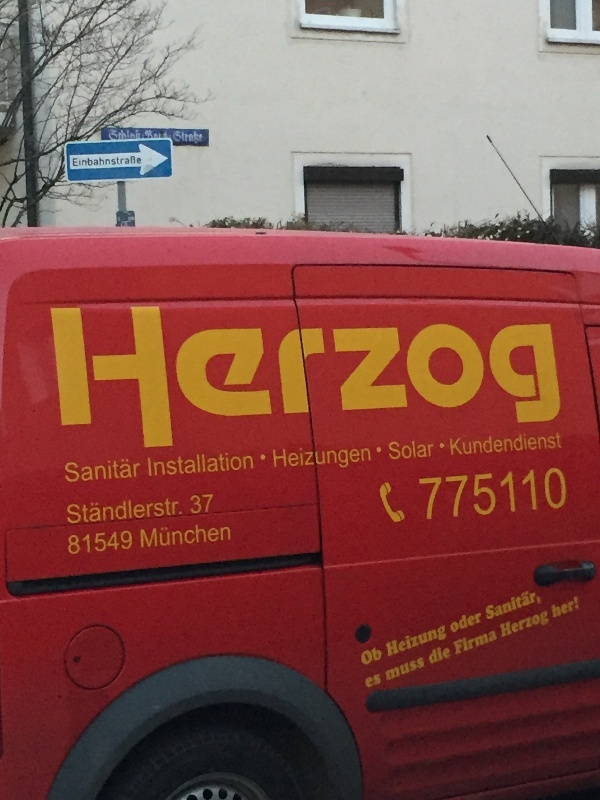text: (65, 298, 80, 452), (81, 298, 96, 452), (97, 298, 112, 452), (113, 298, 128, 452), (129, 298, 144, 452), (145, 298, 160, 452), (161, 298, 176, 452), (177, 298, 192, 452), (193, 298, 208, 452), (209, 298, 224, 452), (225, 298, 240, 452), (241, 298, 256, 452), (257, 298, 272, 452), (273, 298, 288, 452), (289, 298, 304, 452), (305, 298, 320, 452), (321, 298, 336, 452), (337, 298, 352, 452), (353, 298, 368, 452), (369, 298, 384, 452), (385, 298, 400, 452), (401, 298, 416, 452), (417, 298, 432, 452), (433, 298, 448, 452), (449, 298, 464, 452), (465, 298, 480, 452), (481, 298, 496, 452), (497, 298, 512, 452), (513, 298, 528, 452), (529, 298, 544, 452), (545, 298, 560, 452), (50, 298, 64, 452), (433, 465, 448, 521), (449, 465, 464, 521), (465, 465, 480, 521), (481, 465, 496, 521), (497, 465, 512, 521), (513, 465, 528, 521), (529, 465, 544, 521), (545, 465, 560, 521), (418, 465, 432, 521), (161, 427, 176, 479), (177, 427, 192, 479), (193, 427, 208, 479), (209, 427, 224, 479), (225, 427, 240, 479), (241, 427, 256, 479), (257, 427, 272, 479), (273, 427, 288, 479), (289, 427, 304, 479), (305, 427, 320, 479), (321, 427, 336, 479), (337, 427, 352, 479), (353, 427, 368, 479), (369, 427, 384, 479), (385, 427, 400, 479), (401, 427, 416, 479), (417, 427, 432, 479), (433, 427, 448, 479), (449, 427, 464, 479), (465, 427, 480, 479), (481, 427, 496, 479), (497, 427, 512, 479), (513, 427, 528, 479), (529, 427, 544, 479), (545, 427, 560, 479), (147, 427, 160, 479), (385, 623, 400, 662), (401, 623, 416, 662), (417, 623, 432, 662), (433, 623, 448, 662), (81, 493, 96, 528), (97, 493, 112, 528), (113, 493, 128, 528), (129, 493, 144, 528), (145, 493, 160, 528), (161, 493, 176, 528), (497, 588, 512, 622), (513, 588, 528, 622), (529, 588, 543, 622), (145, 521, 160, 552), (161, 521, 176, 552), (177, 521, 192, 552), (193, 521, 208, 552), (209, 521, 224, 552), (561, 298, 564, 452), (67, 493, 80, 528), (465, 628, 480, 657), (481, 628, 496, 657), (513, 611, 528, 640), (529, 611, 544, 640), (65, 459, 80, 487), (81, 459, 96, 487), (97, 459, 112, 487), (113, 459, 128, 487), (129, 459, 144, 487), (465, 608, 480, 635), (385, 657, 400, 684), (401, 657, 416, 684), (81, 529, 96, 556), (97, 529, 112, 556), (113, 529, 128, 556), (369, 644, 384, 670), (450, 608, 464, 635), (433, 642, 448, 667), (561, 595, 576, 620), (486, 588, 496, 622), (193, 494, 208, 516), (68, 529, 80, 556), (501, 611, 512, 640), (454, 628, 464, 657), (561, 465, 566, 521), (369, 672, 382, 692), (225, 521, 233, 552), (417, 657, 426, 684), (359, 644, 368, 670), (129, 130, 144, 144), (145, 130, 160, 144), (177, 131, 192, 145), (177, 493, 183, 528), (552, 595, 560, 620), (81, 155, 96, 168), (97, 155, 112, 168), (113, 155, 128, 168), (129, 155, 142, 168), (161, 130, 173, 144), (193, 131, 204, 145), (545, 611, 550, 640), (118, 130, 128, 144), (140, 521, 144, 552), (209, 494, 214, 516), (129, 529, 133, 556), (561, 427, 563, 479), (73, 155, 80, 168), (429, 642, 432, 667), (577, 595, 580, 620), (365, 672, 368, 692), (449, 642, 451, 667), (190, 494, 192, 516), (173, 131, 176, 145), (497, 628, 498, 657), (481, 608, 482, 635)
